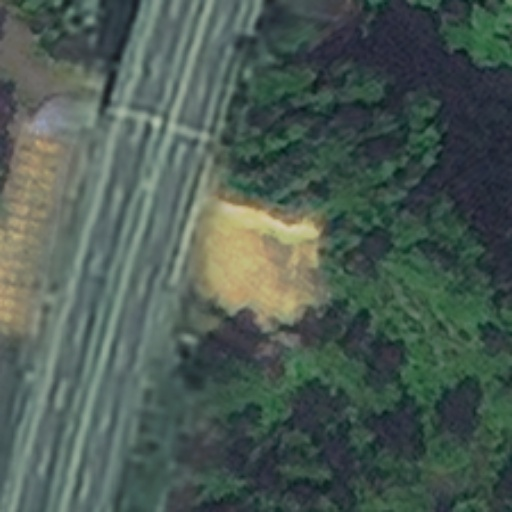landslide: (196, 192, 323, 326)
